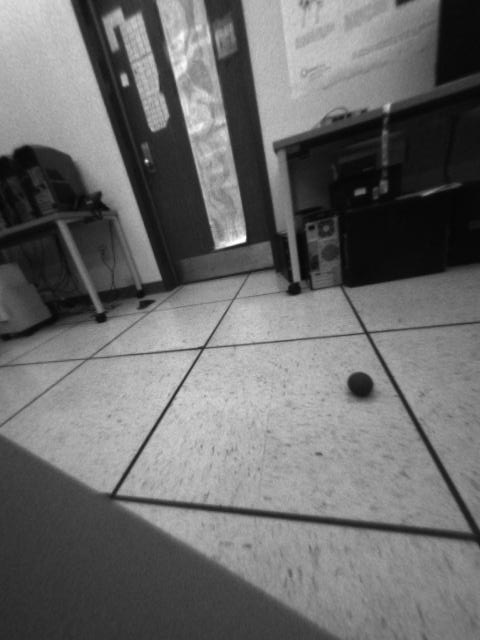dogtoy: (340, 363, 380, 403)
